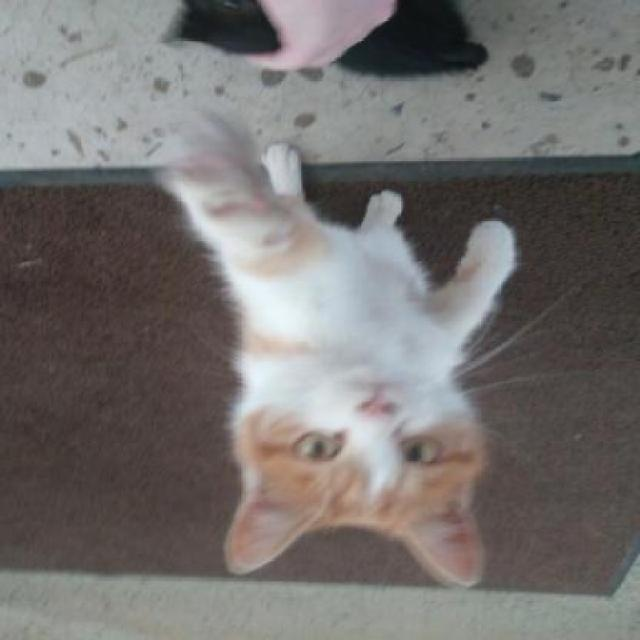cat: (140, 122, 540, 590)
